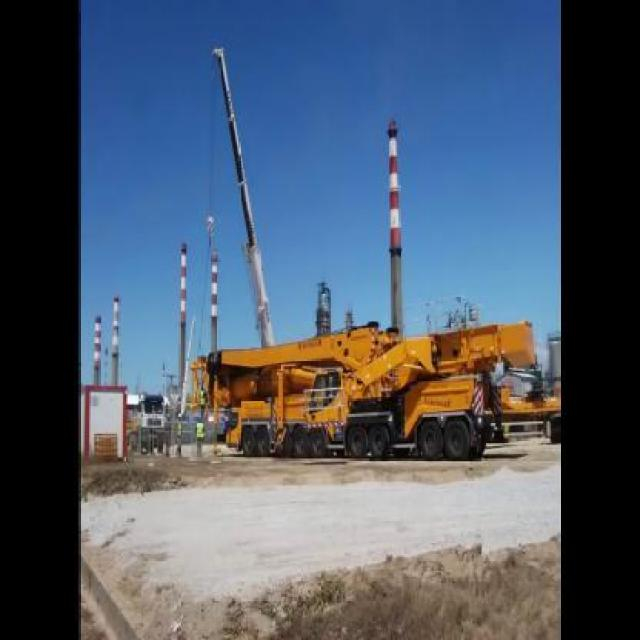Mobile Crane: (200, 322, 551, 466)
